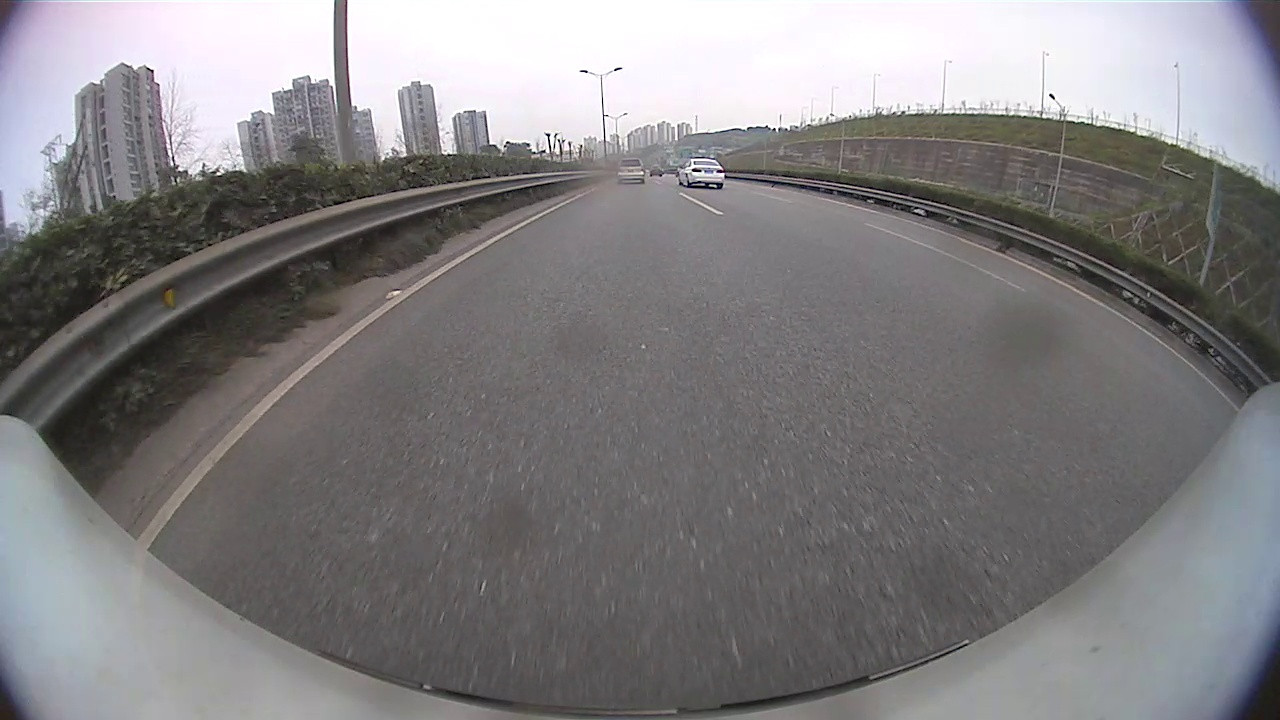car: (676, 156, 726, 189), (615, 157, 646, 184)
